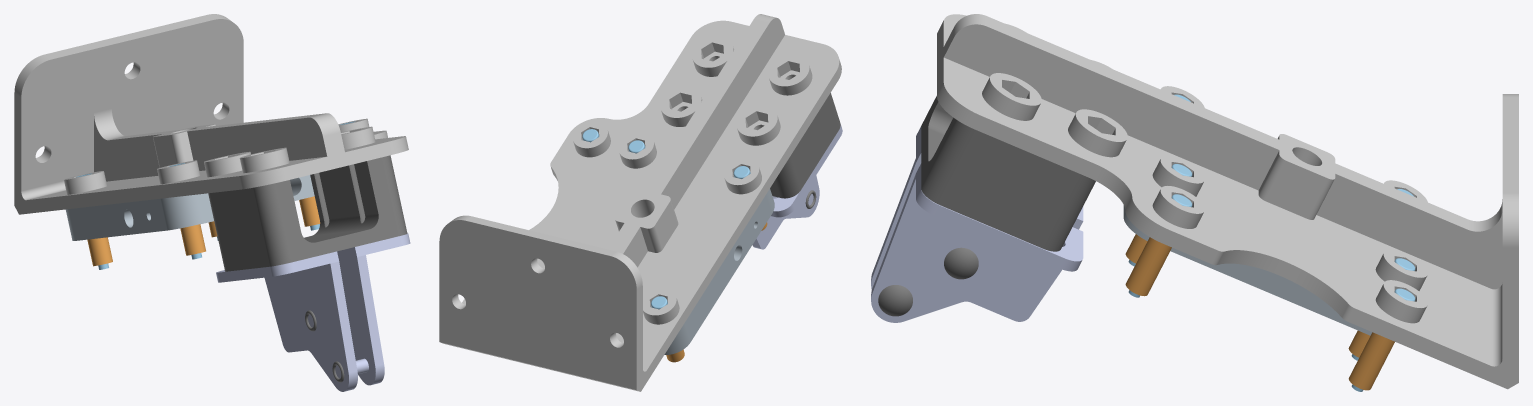
The model's file is ti_assembly_no_presser_cathode_tray.obj.
3 renders of one model, left to right at view 1: azimuth 30°, elevation 25°; view 2: azimuth 150°, elevation 25°; view 3: azimuth 270°, elevation 25°, orthographic. The views are drawn at different scales.
Parts seen in each view (by area): view 1: mesh102, mesh51, mesh75, mesh96, mesh221, mesh228, mesh249, mesh82, mesh25, mesh222, mesh86, mesh7 (+26 smaller); view 2: mesh103, mesh107, mesh112, mesh67, mesh75, mesh96, mesh249, mesh228, mesh51, mesh101, mesh128, mesh137 (+20 smaller); view 3: mesh112, mesh73, mesh11, mesh211, mesh83, mesh67, mesh98, mesh7, mesh239, mesh94, mesh70, mesh212 (+28 smaller).
Boxes of the visible parts, x1,y1,x2,y2 form: mesh102: (21, 19, 243, 190); mesh51: (264, 263, 348, 391); mesh75: (187, 117, 327, 170); mesh96: (14, 93, 241, 214); mesh221: (275, 157, 398, 261); mesh228: (210, 188, 269, 271); mesh249: (68, 199, 166, 240); mesh82: (94, 116, 161, 181); mesh25: (337, 247, 375, 385); mesh222: (253, 183, 292, 266); mesh86: (284, 132, 390, 180); mesh7: (87, 196, 320, 266); mesh103: (439, 220, 636, 389); mesh107: (616, 35, 839, 369); mesh112: (462, 20, 748, 304); mesh67: (608, 19, 768, 253); mesh75: (661, 18, 784, 209); mesh96: (636, 72, 838, 391); mesh249: (685, 195, 771, 341); mesh228: (790, 97, 838, 189); mesh51: (756, 175, 819, 249); mesh101: (466, 216, 615, 255); mesh128: (768, 54, 809, 86); mesh137: (691, 36, 733, 67); mesh112: (943, 57, 1490, 365); mesh73: (944, 24, 1279, 190); mesh11: (871, 179, 1061, 322); mesh211: (940, 131, 1080, 248); mesh83: (1316, 174, 1502, 289); mesh67: (987, 16, 1467, 229); mesh98: (1348, 247, 1518, 389); mesh7: (1125, 234, 1394, 390); mesh239: (1170, 247, 1372, 335); mesh94: (1217, 250, 1348, 317); mesh70: (1266, 161, 1327, 218); mesh212: (921, 120, 977, 204).
Size of the model in its own units: 0.075 by 0.0825 by 0.1579.
